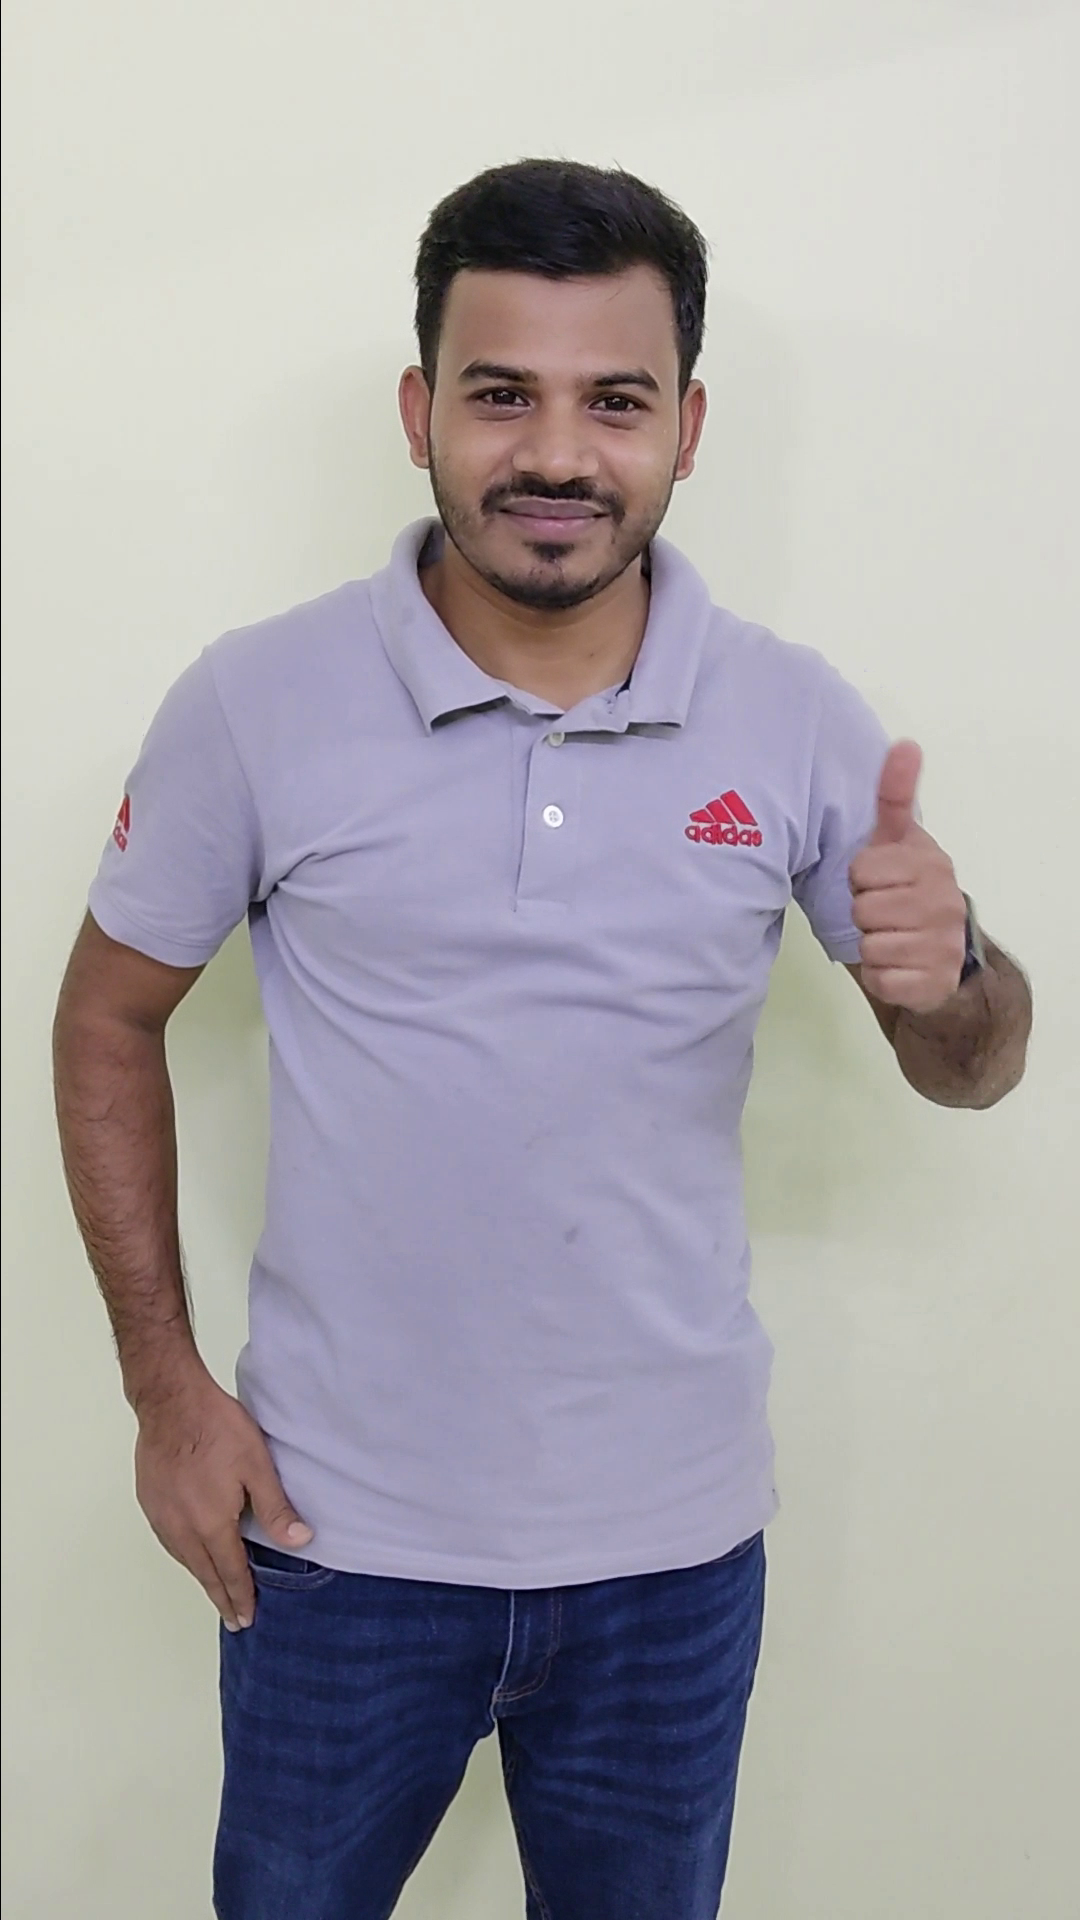Like: (804, 717, 1029, 1044)
None: (95, 1356, 316, 1647)
